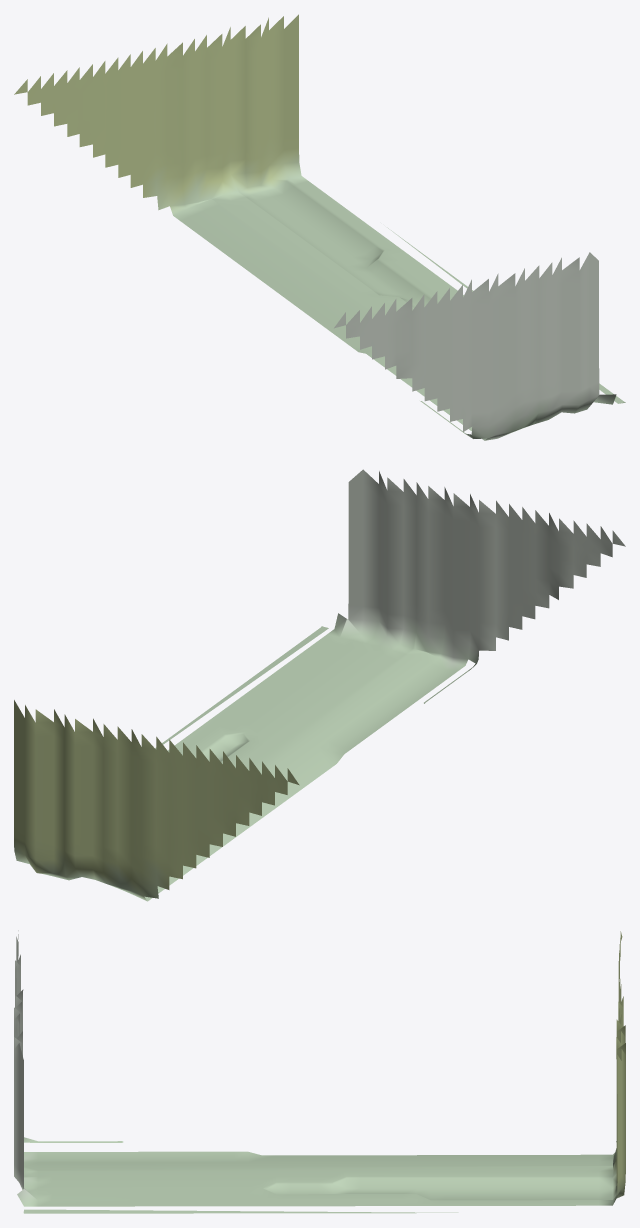
The model's file is tile_7e4ccbd5fe0e_0_0_-2_0_lod0.glb.
The picture shows the model from 3 angles, top to bottom: view 1: azimuth 30°, elevation 25°; view 2: azimuth 150°, elevation 25°; view 3: azimuth 270°, elevation 25°; orthographic projection. The views are drawn at different scales.
Bounding box in the file's own units: 1.84 × 1.01 × 3.49.
